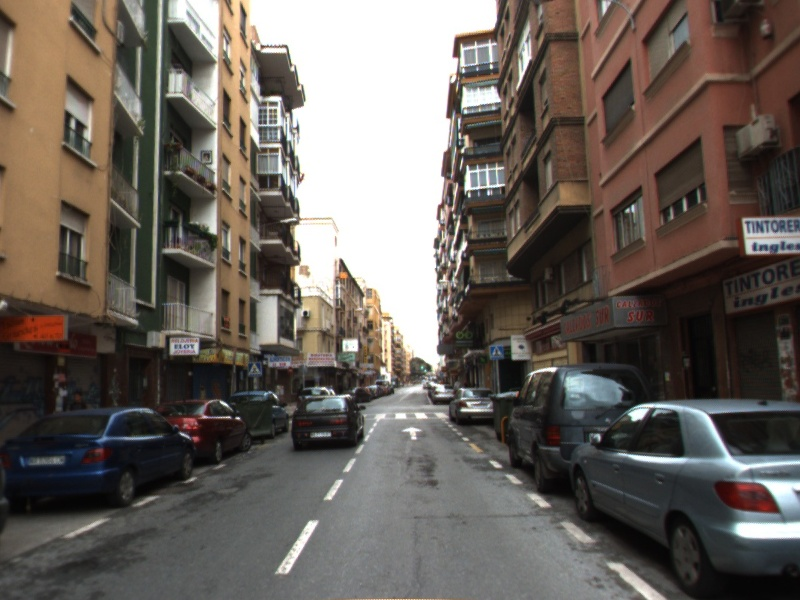STRAIGHT: (400, 425, 425, 442)
